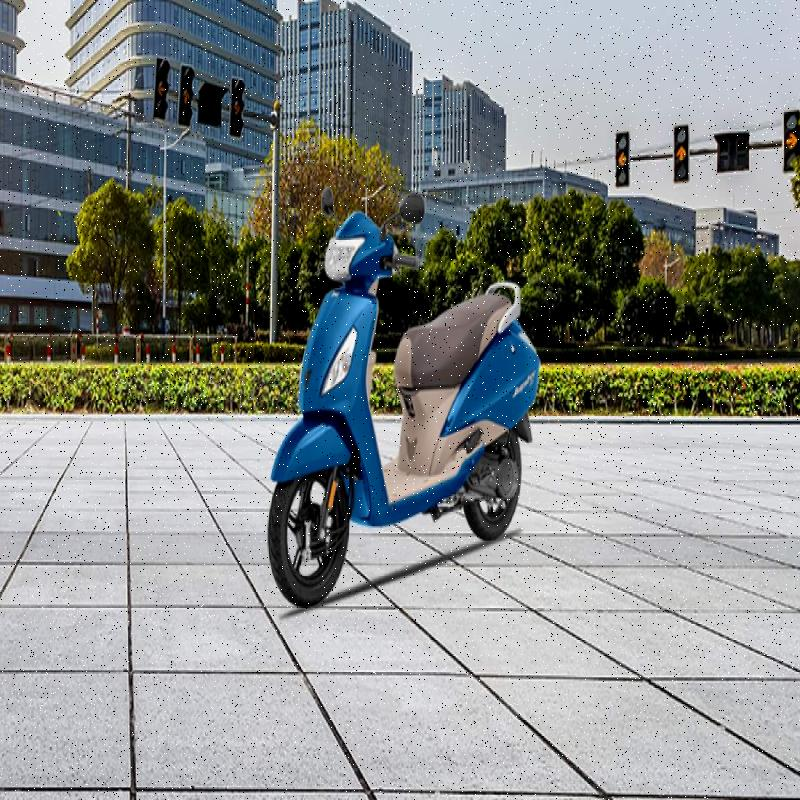bike: (257, 153, 549, 608)
